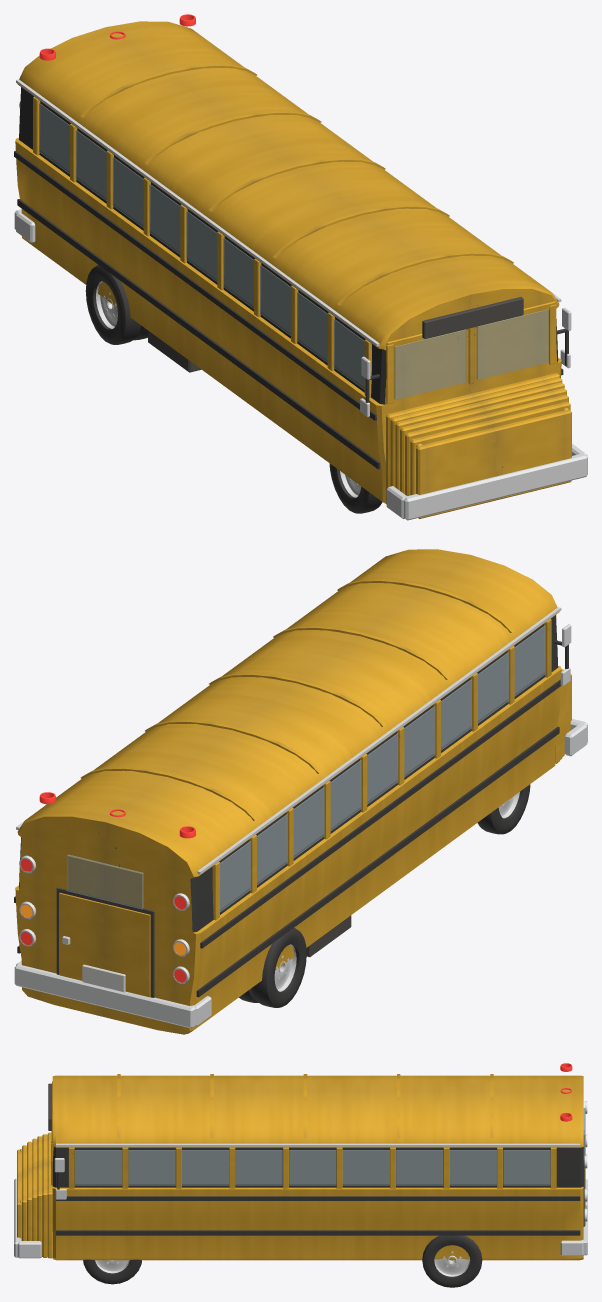
File: hero-bus.glb
The picture shows the model from 3 angles, top to bottom: view 1: azimuth 30°, elevation 25°; view 2: azimuth 150°, elevation 25°; view 3: azimuth 270°, elevation 25°; orthographic projection. The views are drawn at different scales.
Parts seen in each view (by area): view 1: HeroBus; view 2: HeroBus; view 3: HeroBus.
Part boxes in pixels (bbox=[...]): HeroBus: bbox=[14, 14, 587, 520]; HeroBus: bbox=[14, 549, 587, 1034]; HeroBus: bbox=[14, 1063, 587, 1287].
Size of the model in its own units: 2.98 by 3.2 by 9.97.
Materials: 8 (1 with a texture image).
